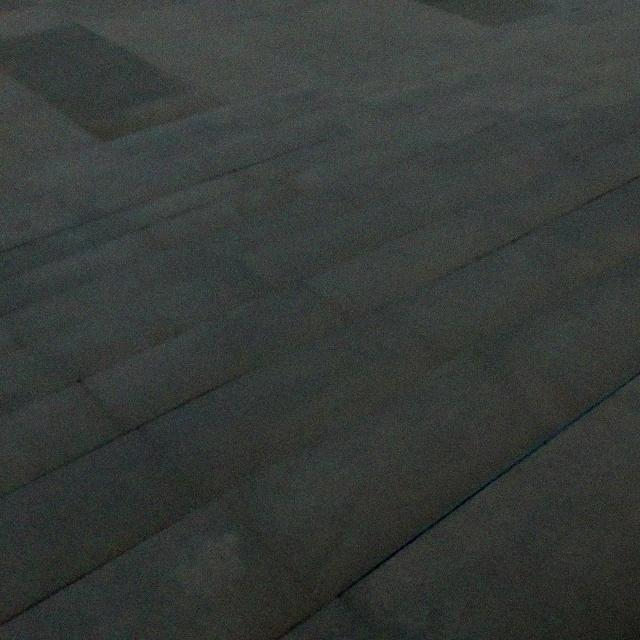stair: (17, 112, 640, 620)
